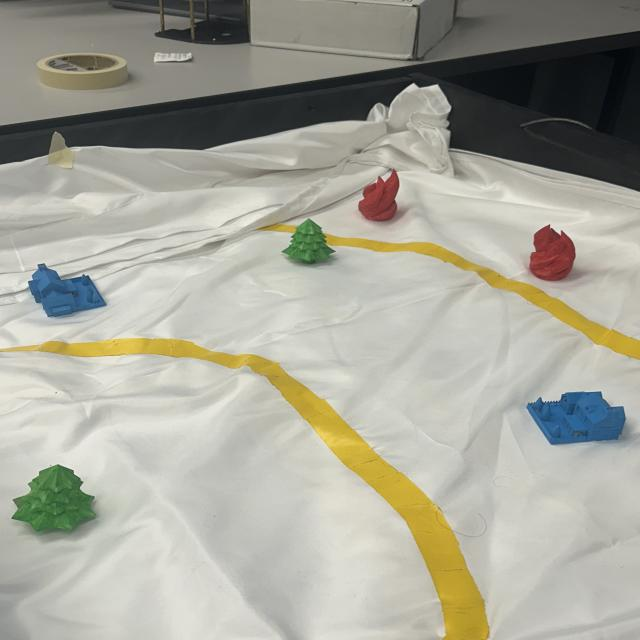fire: (526, 222, 577, 282), (356, 172, 405, 224)
house: (523, 387, 627, 446), (27, 260, 108, 322)
tree: (10, 462, 99, 534), (280, 219, 338, 269)
